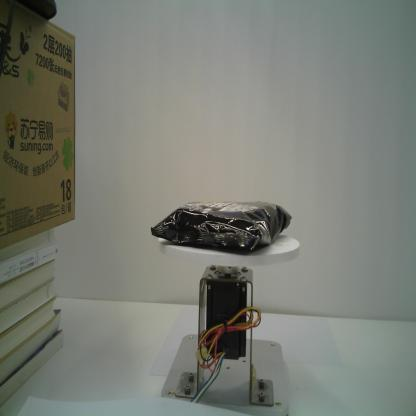Instant Noodles: (150, 198, 294, 256)
